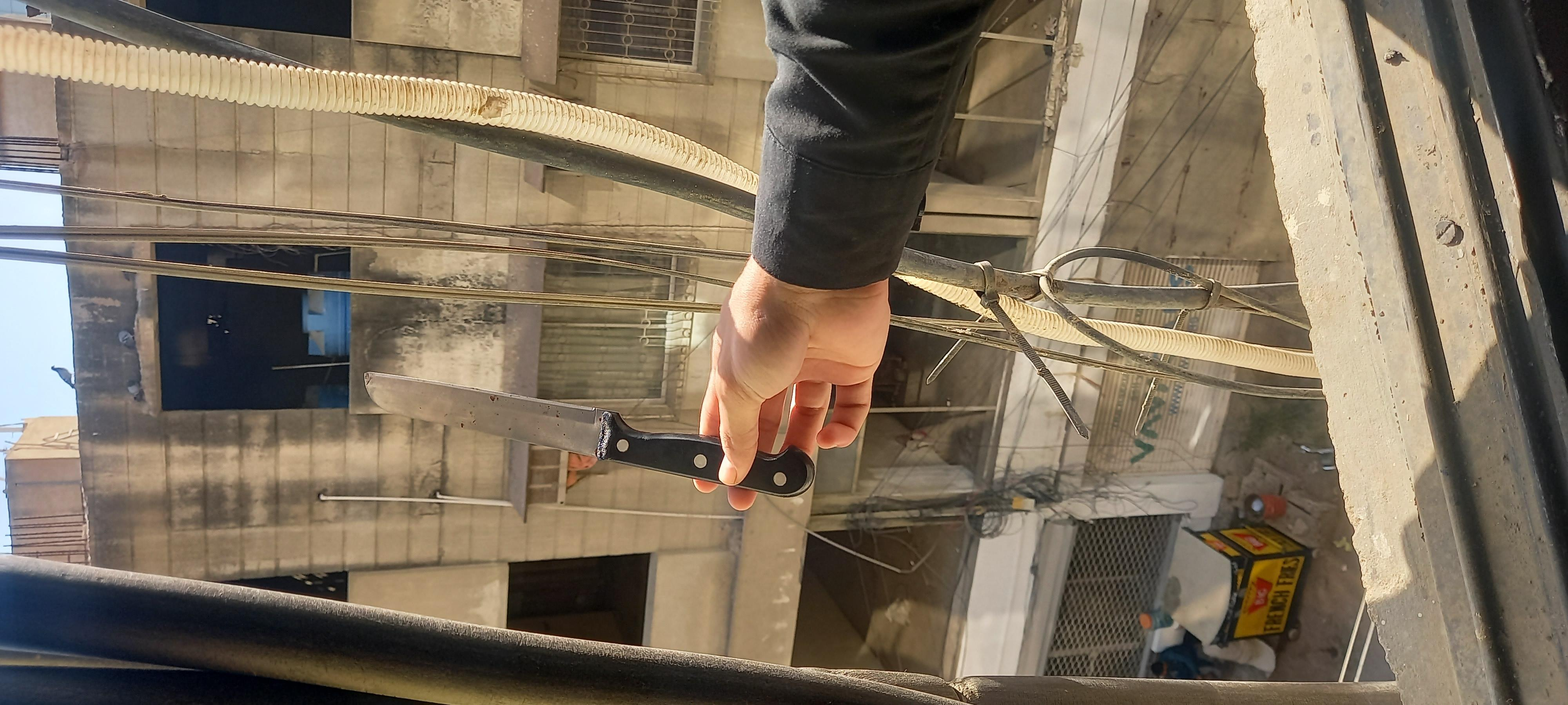knives: (409, 160, 784, 370)
